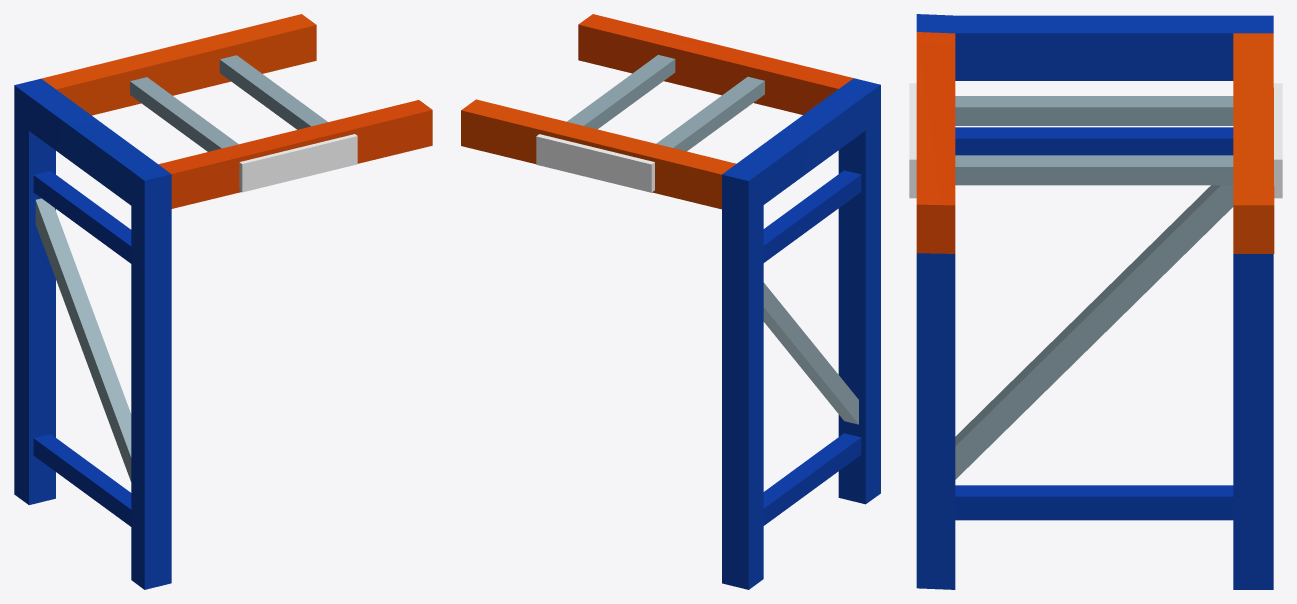
The model's file is HalfRack80.fbx.
3 renders of one model, left to right at view 1: azimuth 30°, elevation 25°; view 2: azimuth 150°, elevation 25°; view 3: azimuth 270°, elevation 25°, orthographic. The views are drawn at different scales.
Visible parts, largest first — view 1: ProtoRack, LabelFront; view 2: ProtoRack, LabelRear; view 3: ProtoRack, LabelRear, LabelFront.
Part boxes in pixels (box(x1,y1,x2,y2)): ProtoRack: box(14, 14, 432, 589); LabelFront: box(239, 134, 357, 192); ProtoRack: box(461, 14, 880, 589); LabelRear: box(536, 134, 654, 192); ProtoRack: box(916, 14, 1274, 589); LabelRear: box(1273, 83, 1282, 198); LabelFront: box(909, 83, 916, 198).
Size of the model in its own units: 1.47 by 1.21 by 2.
